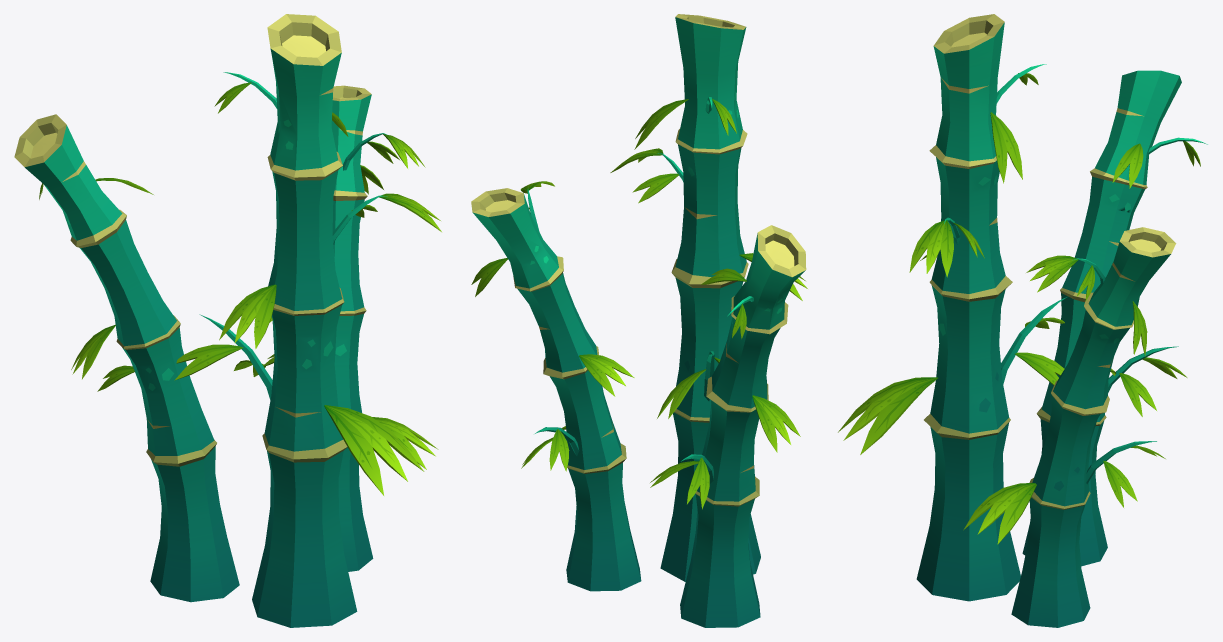
The model's file is bamboo_5.glb.
The picture shows the model from 3 angles, left to right: view 1: azimuth 30°, elevation 25°; view 2: azimuth 150°, elevation 25°; view 3: azimuth 270°, elevation 25°; orthographic projection. The views are drawn at different scales.
Parts seen in each view (by area): view 1: bamboo_5; view 2: bamboo_5; view 3: bamboo_5.
Part boxes in pixels (x1,y1,x2,y2): bamboo_5: (14, 14, 441, 627); bamboo_5: (471, 14, 807, 627); bamboo_5: (838, 14, 1207, 627).
Size of the model in its own units: 2.15 by 3.34 by 2.02.
1 material, 1 textured.
